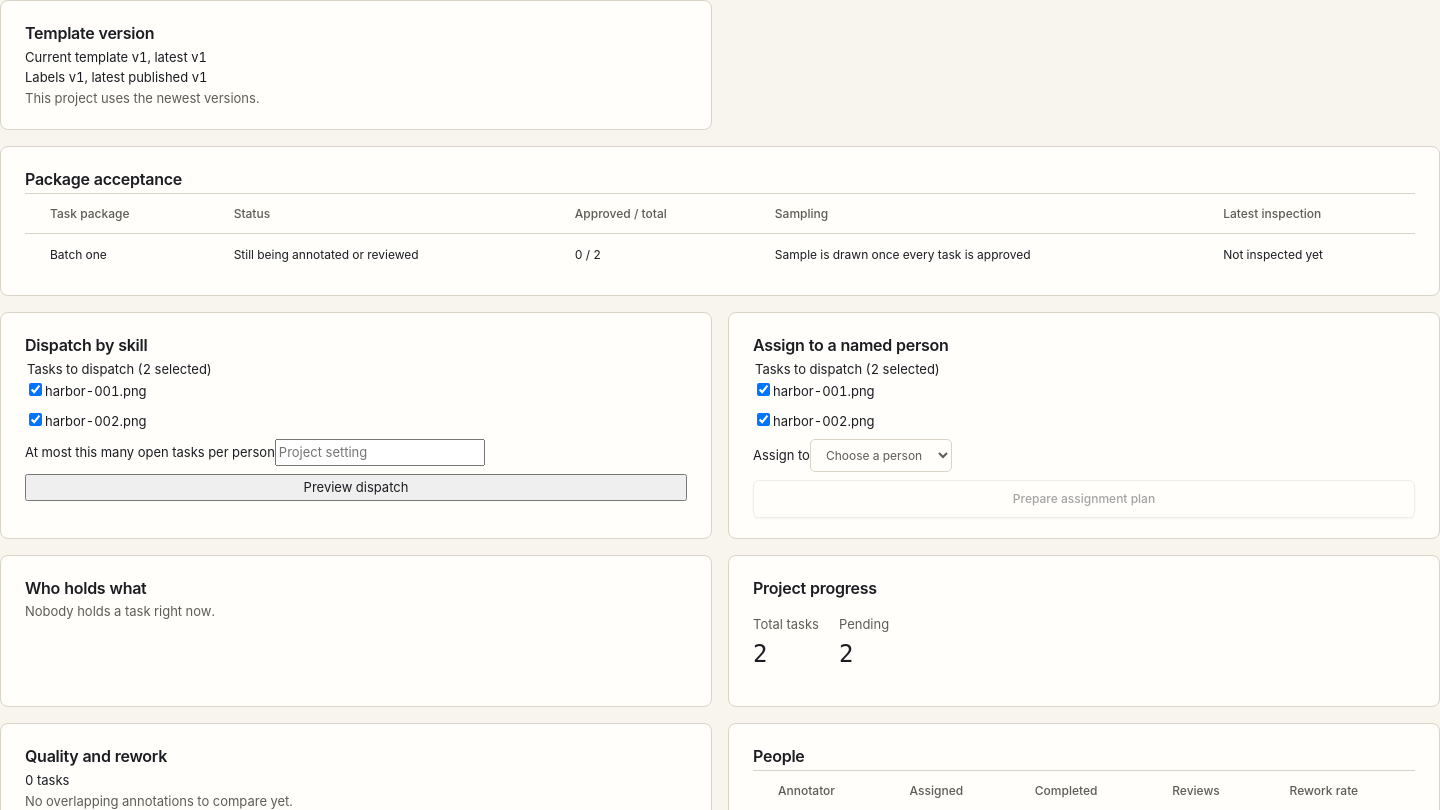
it: names the original annotator in a named plan that hands rework over
The width and height of the screenshot is (1440, 810).
Select "ann · 0 open now" in the dropdown labelled "Assign to" at point(881, 456), box [810,439,952,472]
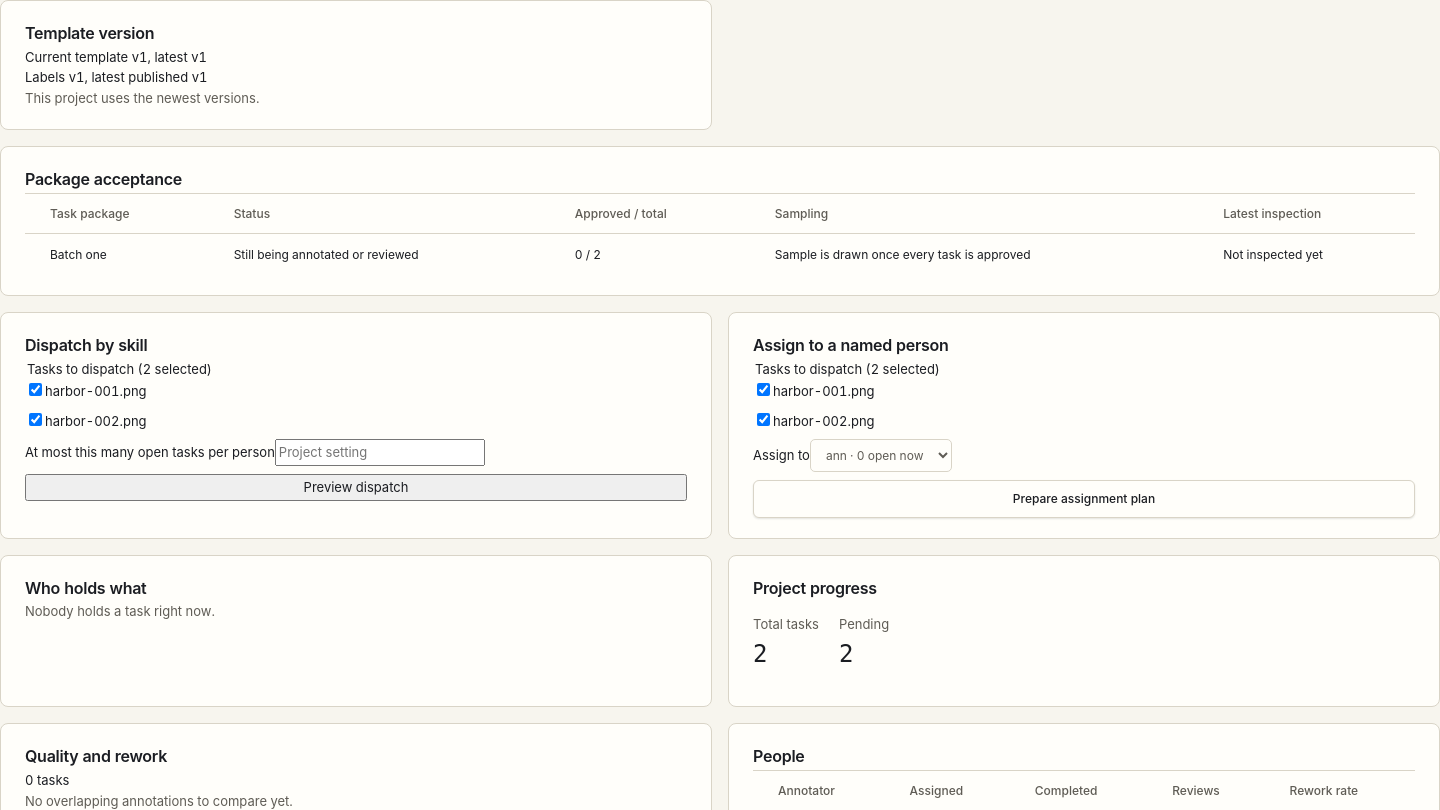
Click the button "Prepare assignment plan" at point(1084, 499), box [753,480,1415,518]
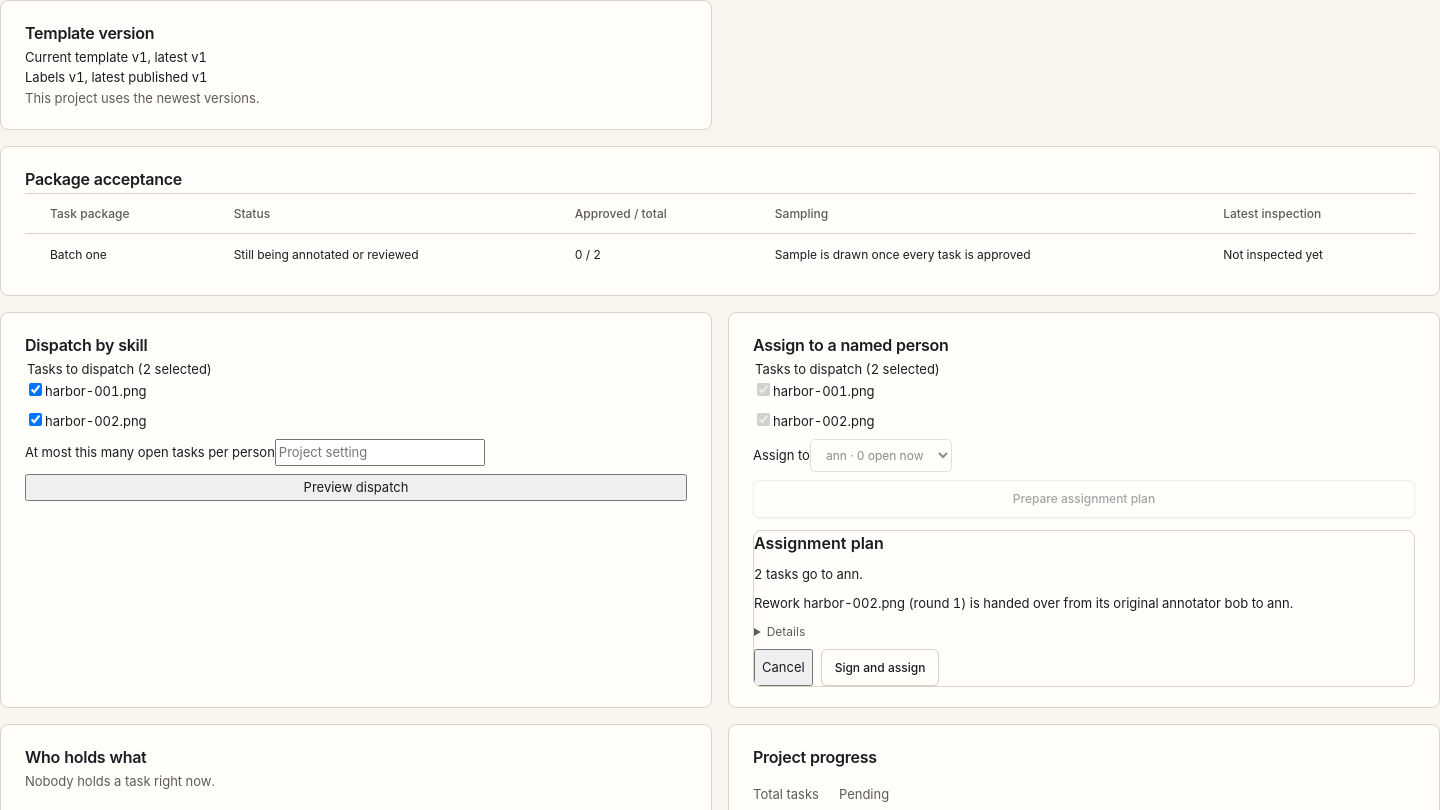
Now the text "Rework harbor-002.png (round 1) is handed over from its original annotator bob to ann." is shown, box [754,595,1293,611]
